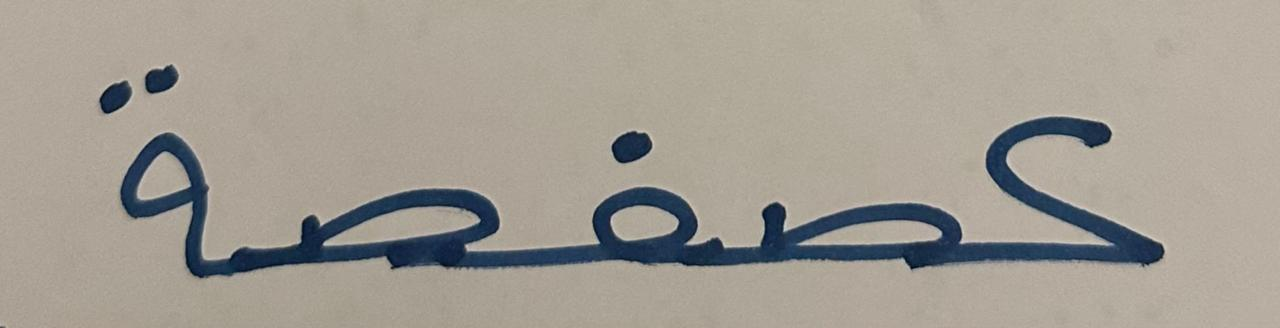ain: (975, 42, 1202, 301)
feh: (520, 64, 724, 305)
seen: (728, 100, 971, 293), (240, 157, 514, 301)
thal: (74, 30, 236, 302)
